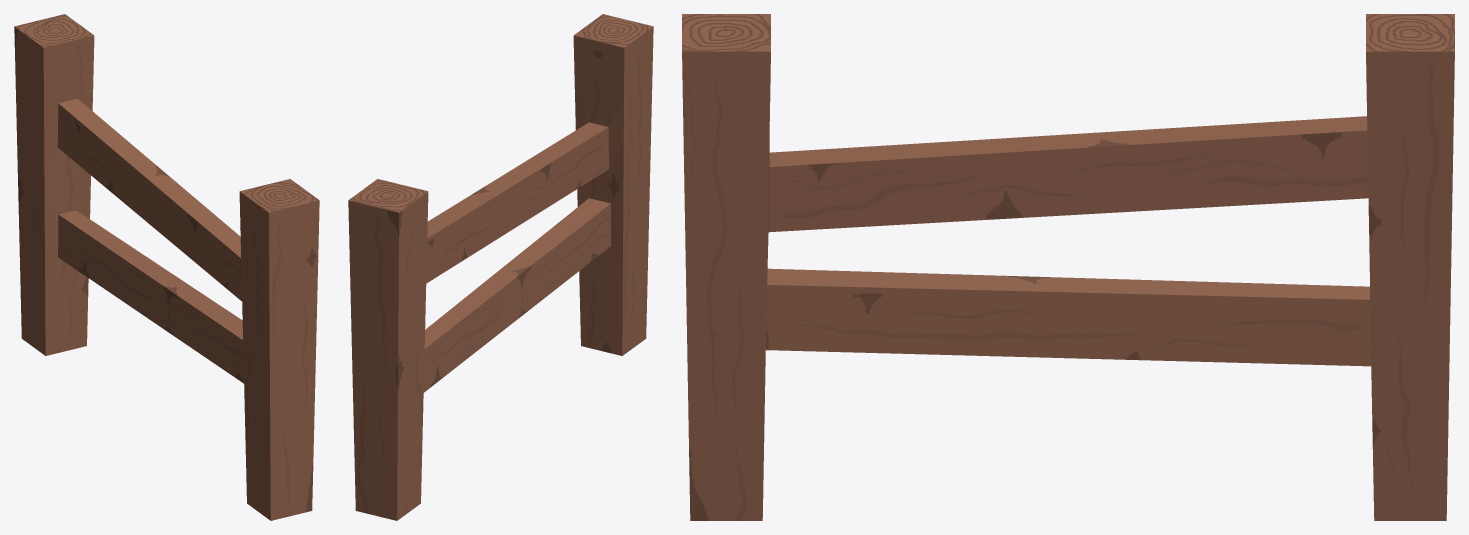
File: brkn-fence-full2.fbx
The picture shows the model from 3 angles, left to right: view 1: azimuth 30°, elevation 25°; view 2: azimuth 150°, elevation 25°; view 3: azimuth 270°, elevation 25°; orthographic projection. The views are drawn at different scales.
Parts seen in each view (by area): view 1: Cube; view 2: Cube; view 3: Cube.
Boxes of the visible parts, x1=… form: Cube: x1=14, y1=14, x2=319, y2=520; Cube: x1=348, y1=14, x2=653, y2=520; Cube: x1=682, y1=14, x2=1454, y2=520.
Size of the model in its own units: 70.42 by 413 by 611.
